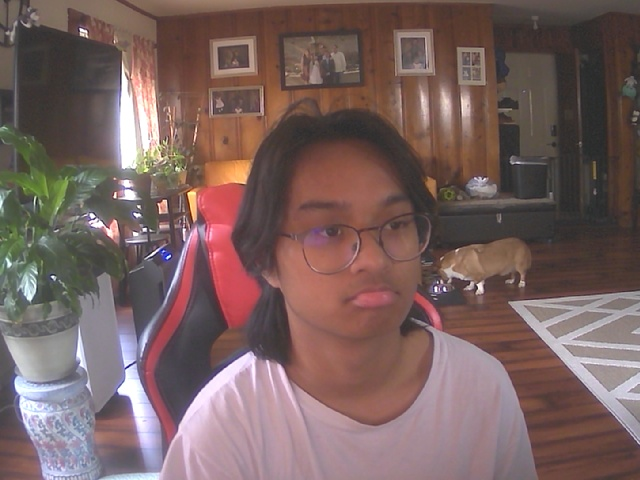sad: (253, 110, 440, 351)
